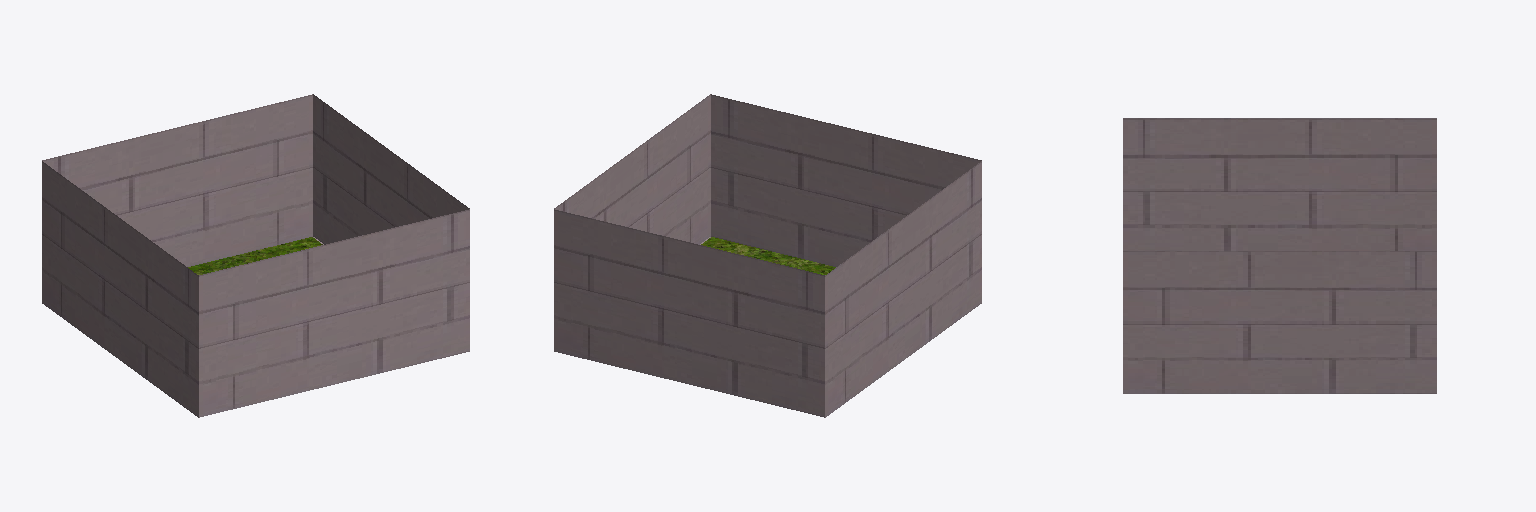
The picture shows the model from 3 angles: view 1: azimuth 30°, elevation 25°; view 2: azimuth 150°, elevation 25°; view 3: azimuth 270°, elevation 25°; orthographic projection.
Visible parts, largest first — view 1: Plane; view 2: Plane; view 3: Plane.
Boxes of the visible parts, x1=… form: Plane: x1=42, y1=94, x2=469, y2=417; Plane: x1=554, y1=94, x2=981, y2=417; Plane: x1=1123, y1=118, x2=1436, y2=393.
Bounding box in the file's own units: 2 × 1 × 2.
Materials: 1 (1 with a texture image).